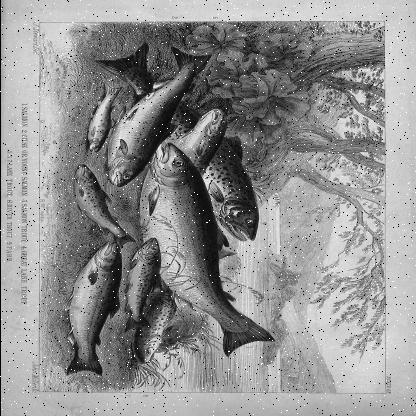fish: (92, 44, 260, 242), (139, 142, 274, 356), (106, 44, 210, 186), (64, 240, 124, 376), (157, 107, 226, 221), (74, 163, 138, 248), (132, 272, 184, 364), (124, 237, 162, 334), (81, 84, 123, 152)
